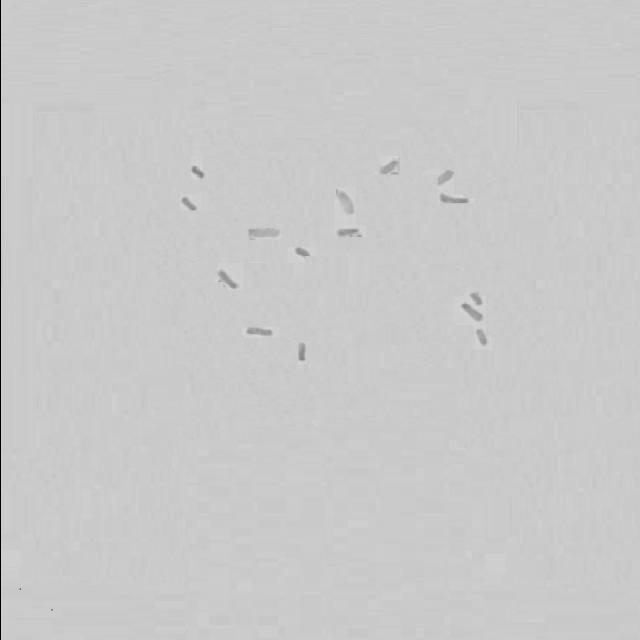E-coli: (450, 297, 486, 328), (213, 268, 239, 295), (330, 189, 357, 215), (291, 337, 313, 364), (238, 325, 272, 340), (433, 166, 457, 187), (177, 195, 199, 217), (436, 193, 468, 208), (372, 160, 400, 176), (329, 229, 363, 241), (241, 228, 281, 238), (468, 331, 490, 347), (185, 166, 208, 180), (289, 248, 315, 258), (469, 290, 483, 305)
